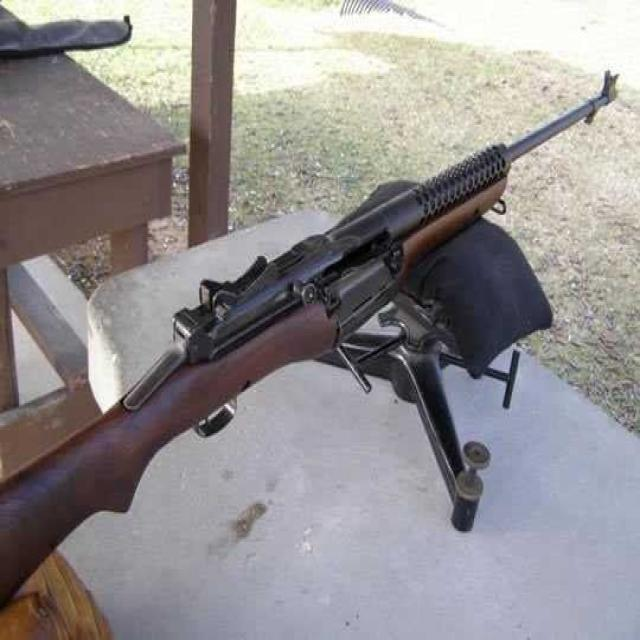heavyweapon: (1, 35, 630, 625)
